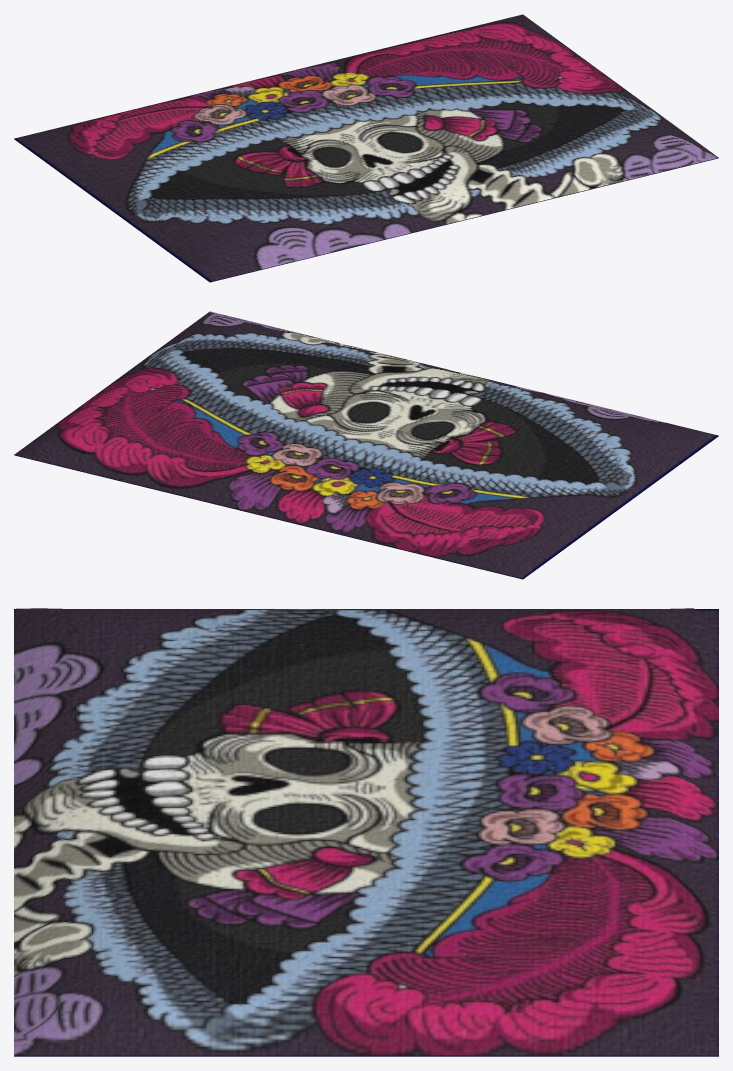
File: aserrin.fbx
3 views of the same model, one above another, from view 1: azimuth 30°, elevation 25°; view 2: azimuth 150°, elevation 25°; view 3: azimuth 270°, elevation 25° (orthographic). The views are drawn at different scales.
Visible parts, largest first — view 1: aserrin1; view 2: aserrin1; view 3: aserrin1.
Boxes of the visible parts, <box> form: aserrin1: <box>14,14,718,282</box>; aserrin1: <box>14,311,718,579</box>; aserrin1: <box>14,608,718,1056</box>.
Size of the model in its own units: 0.21 by 0.00624 by 0.14.
Materials: 1 (1 with a texture image).
